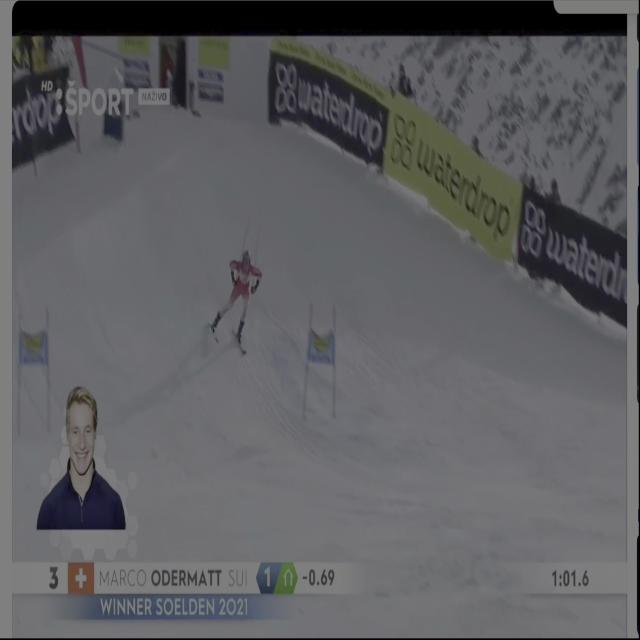gate: (37, 300, 56, 442), (299, 298, 316, 432), (326, 295, 343, 424), (13, 304, 25, 440)
